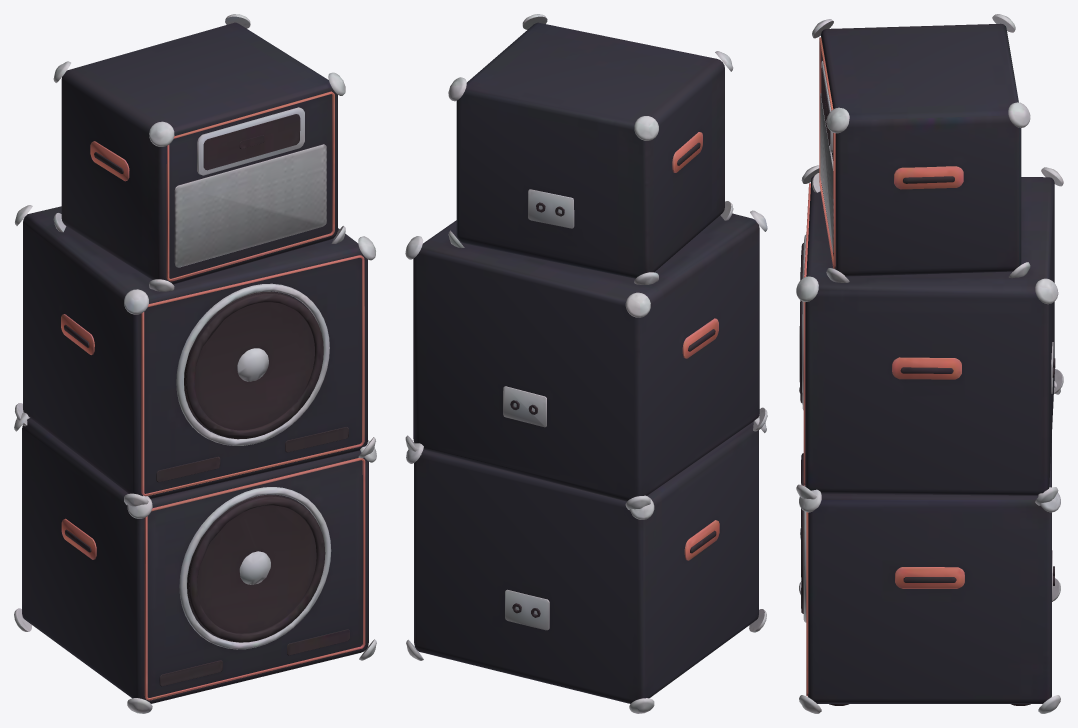
The model's file is speaker-stack.glb.
3 views of the same model, side by side, from view 1: azimuth 30°, elevation 25°; view 2: azimuth 150°, elevation 25°; view 3: azimuth 270°, elevation 25° (orthographic). The views are drawn at different scales.
Parts seen in each view (by area): view 1: speaker-stack_body; view 2: speaker-stack_body; view 3: speaker-stack_body.
Part boxes in pixels (bbox=[...]): speaker-stack_body: bbox=[14, 14, 376, 713]; speaker-stack_body: bbox=[405, 14, 767, 713]; speaker-stack_body: bbox=[796, 14, 1063, 713].
Bounding box in the file's own units: 0.6721 × 1.48 × 0.6036.
1 material, 1 textured.
